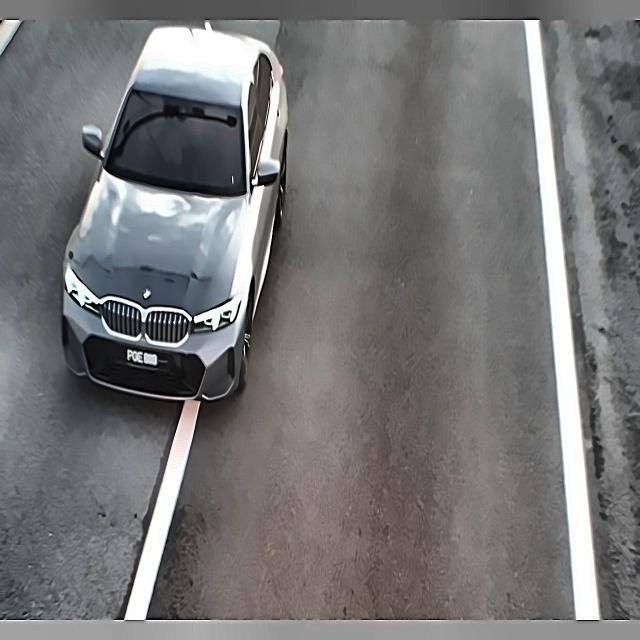car: (120, 343, 181, 372)
